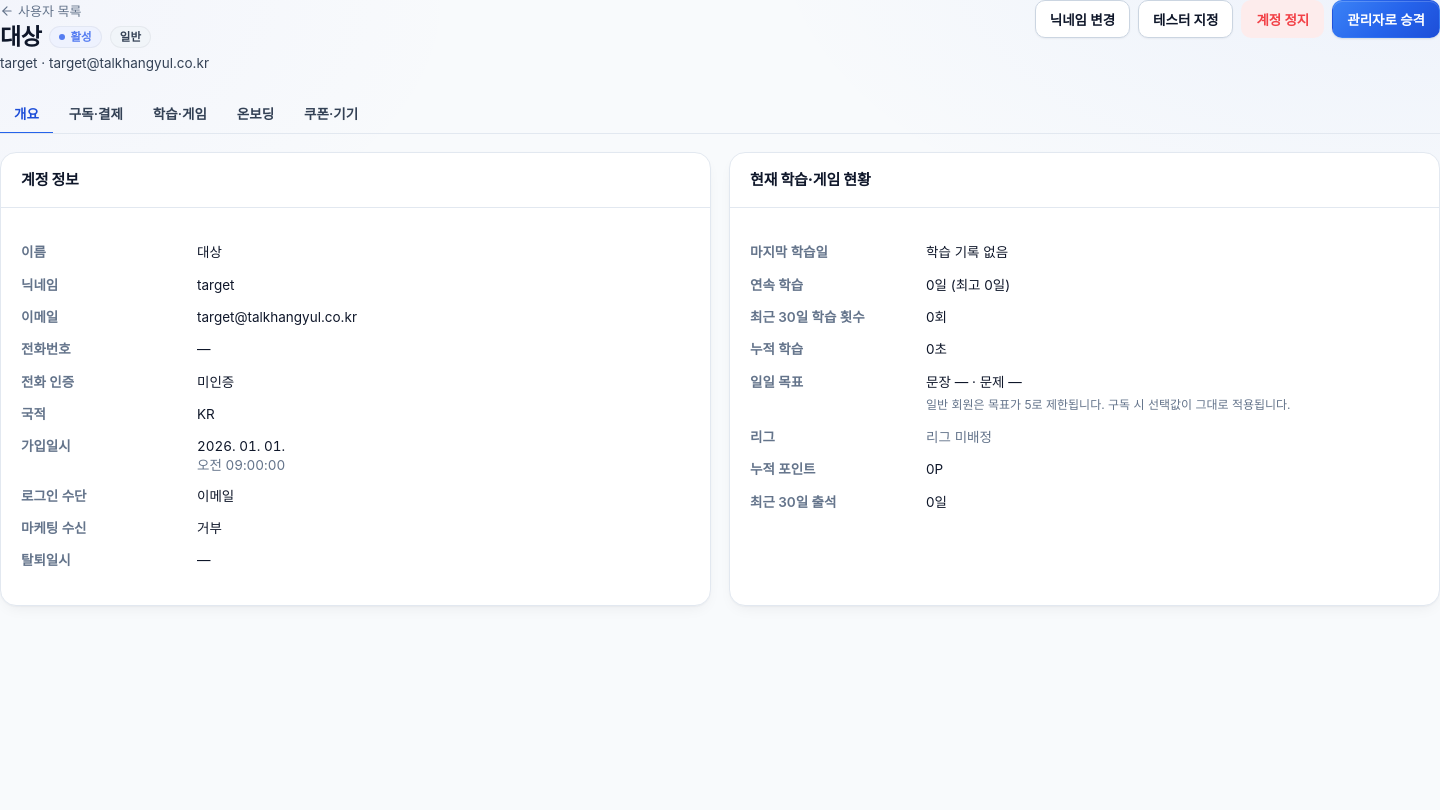
Test: performing the promotion › sends the chosen tier and reports success
The width and height of the screenshot is (1440, 810).
Click the button "관리자로 승격". click: (1386,19)
box: [1332,0,1439,38]
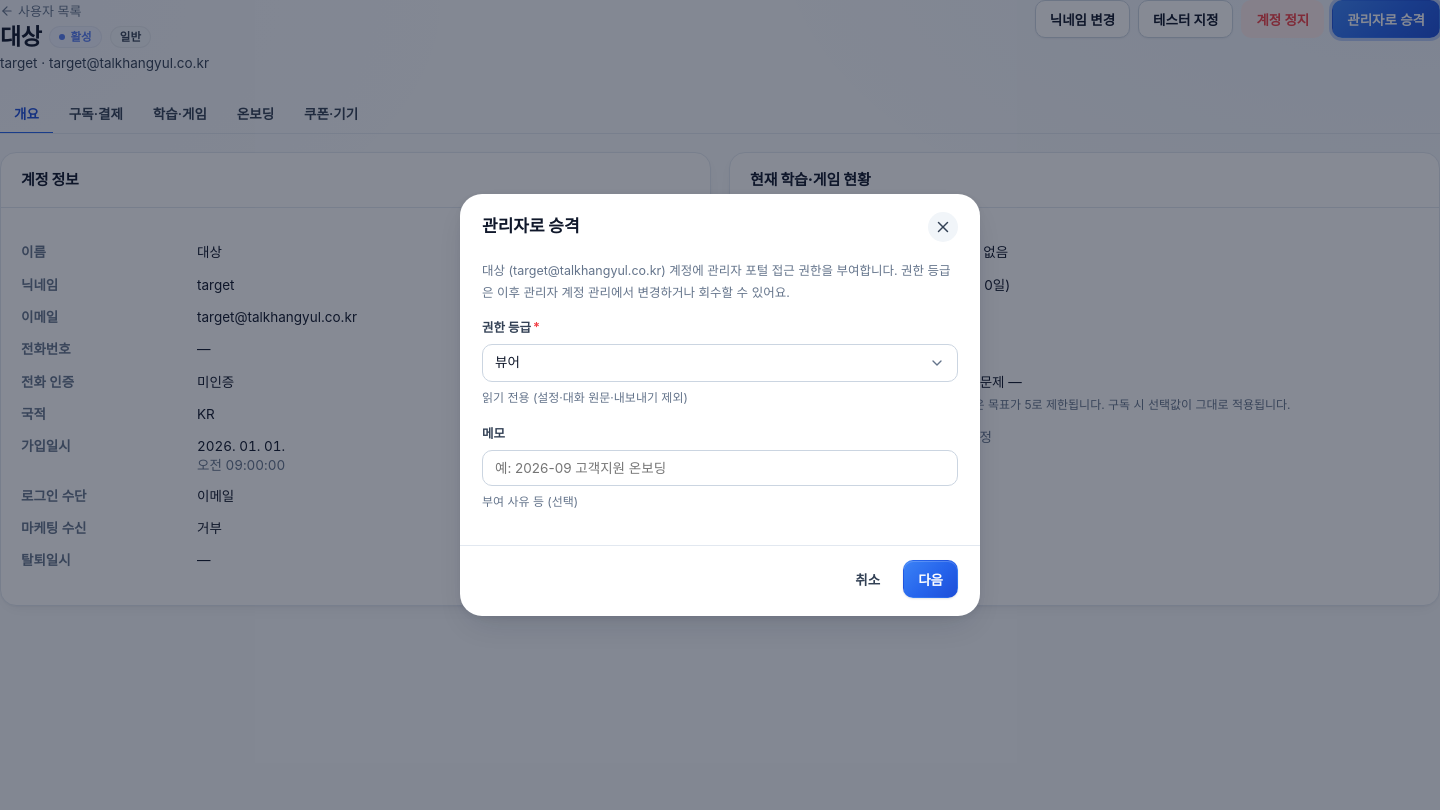
Click the button "뷰어". click: (507,362)
box: [482,344,958,382]
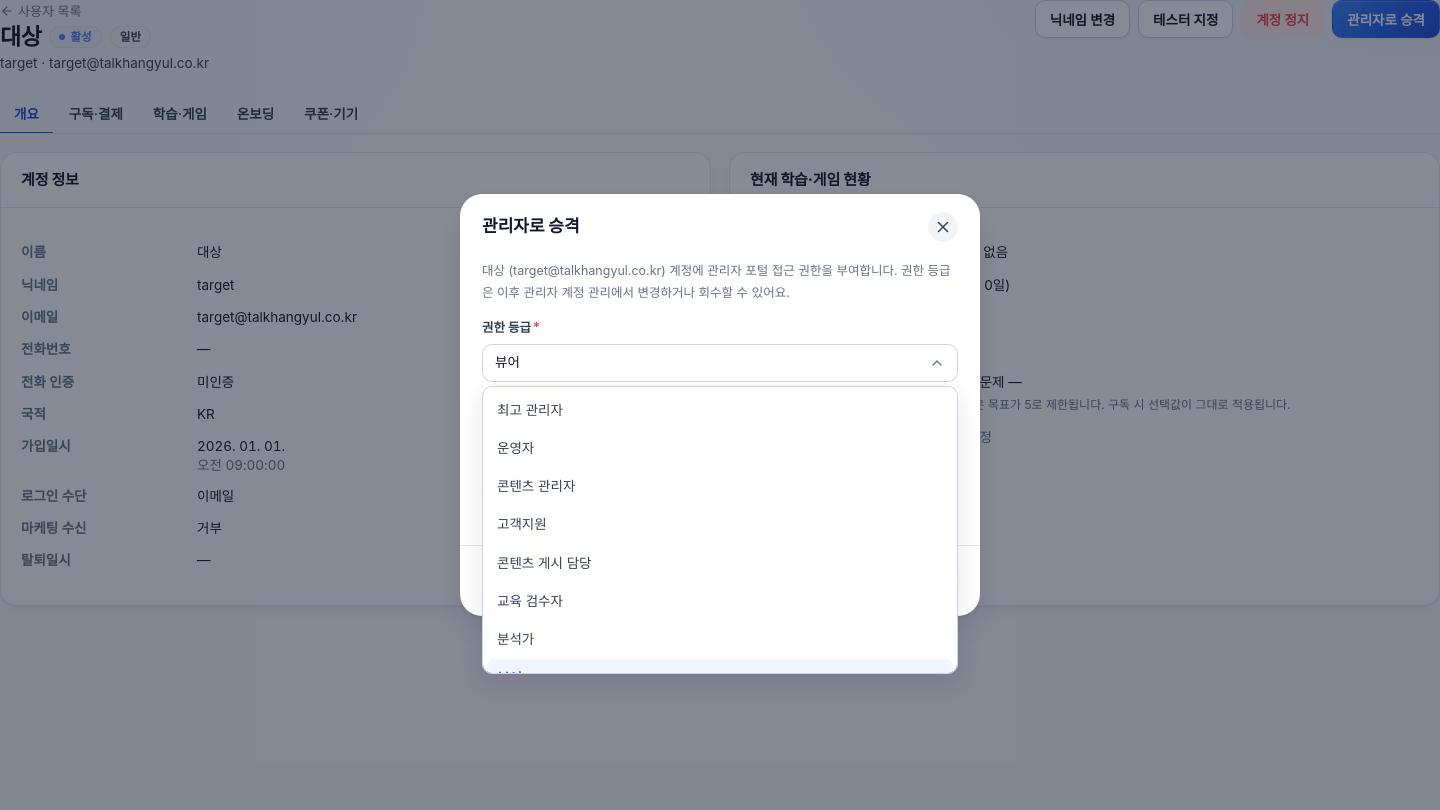
Click the option "고객지원". click: (522,524)
box: [497,516,547,532]
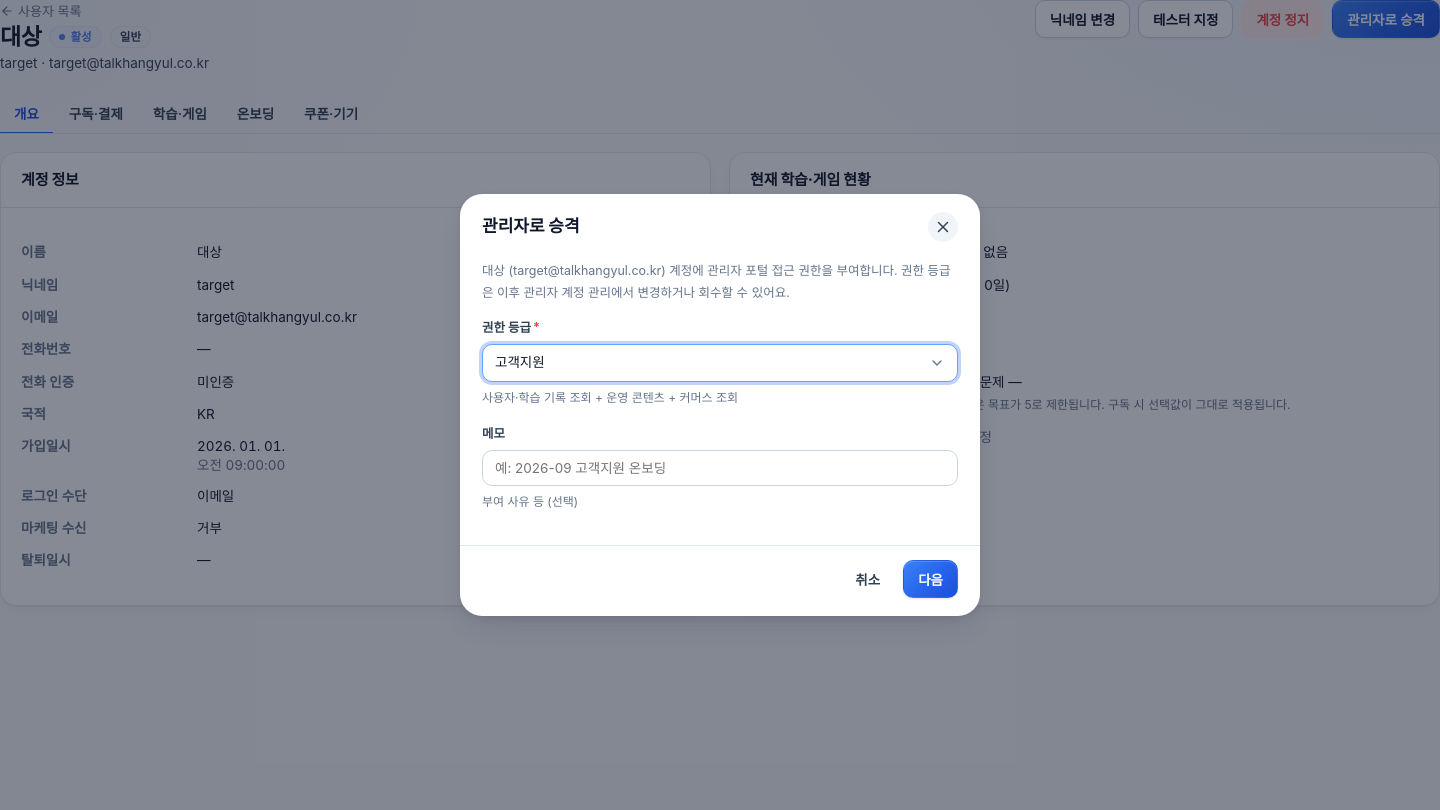
Click the button "다음". click: (931,579)
box: [903,560,958,598]
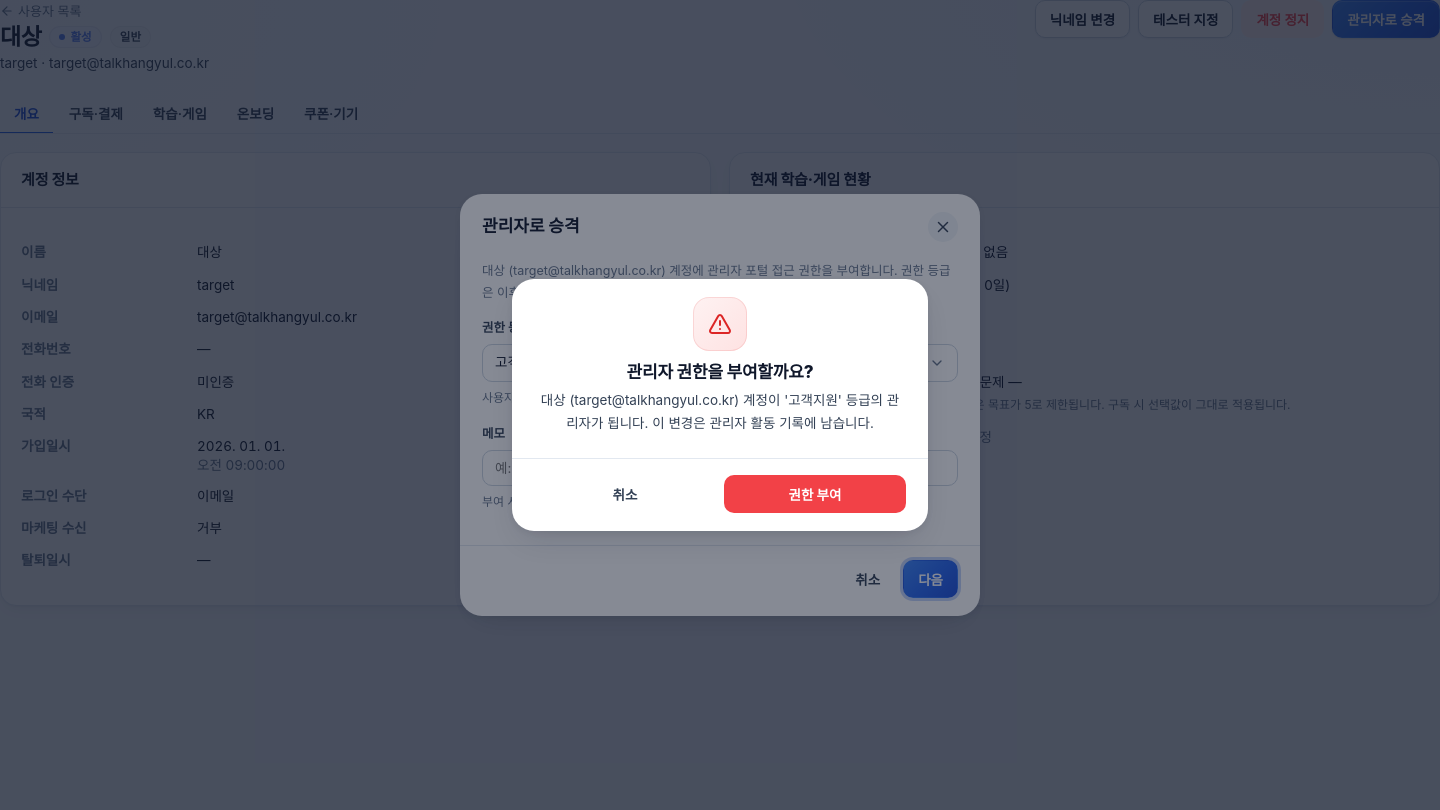
Click the button "권한 부여". click: (815,494)
box: [724,475,906,513]
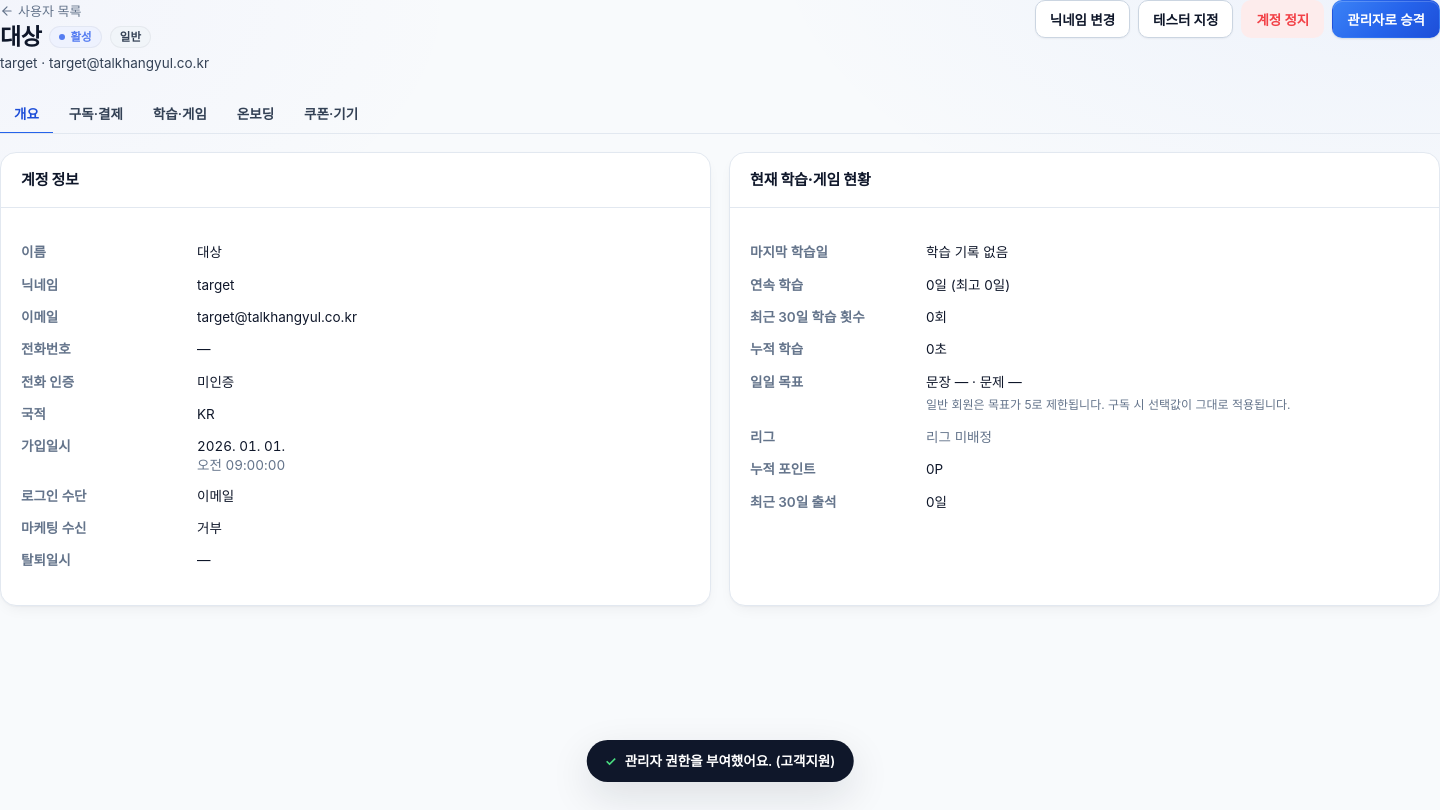
Check: the text "✓ 관리자 권한을 부여했어요. (고객지원)" is shown, box [587,740,853,782]
